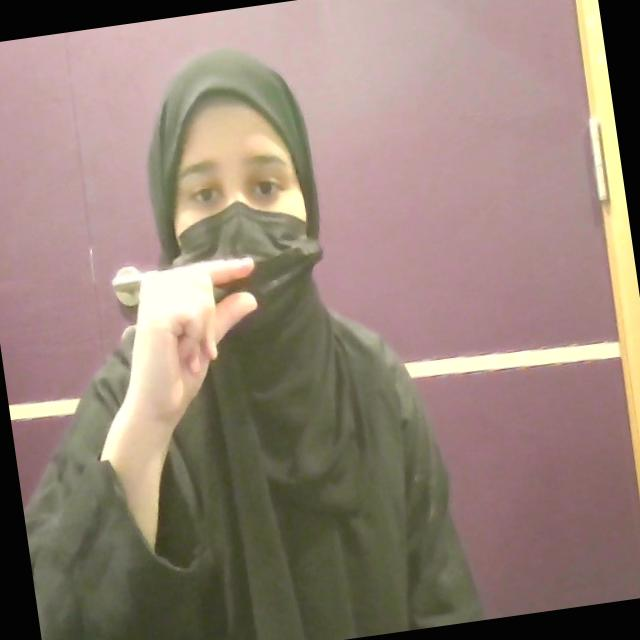fasting: (108, 249, 274, 430)
